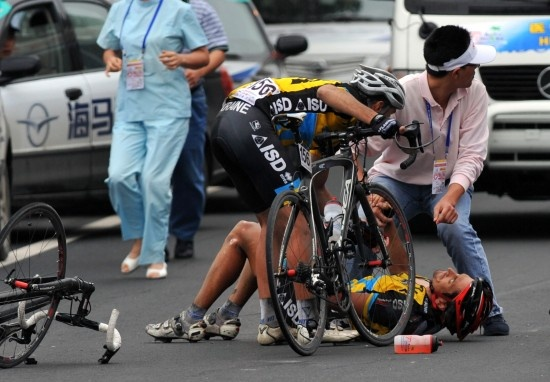falling: (140, 196, 515, 349)
